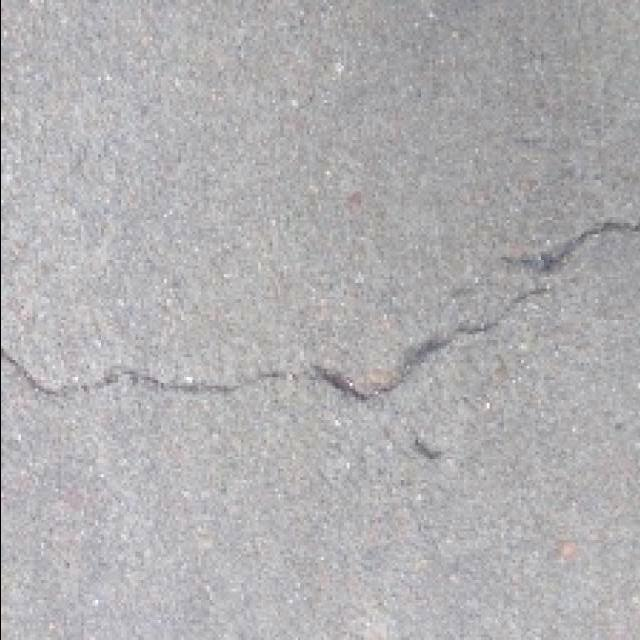SurfaceCrack: (0, 206, 638, 438)
